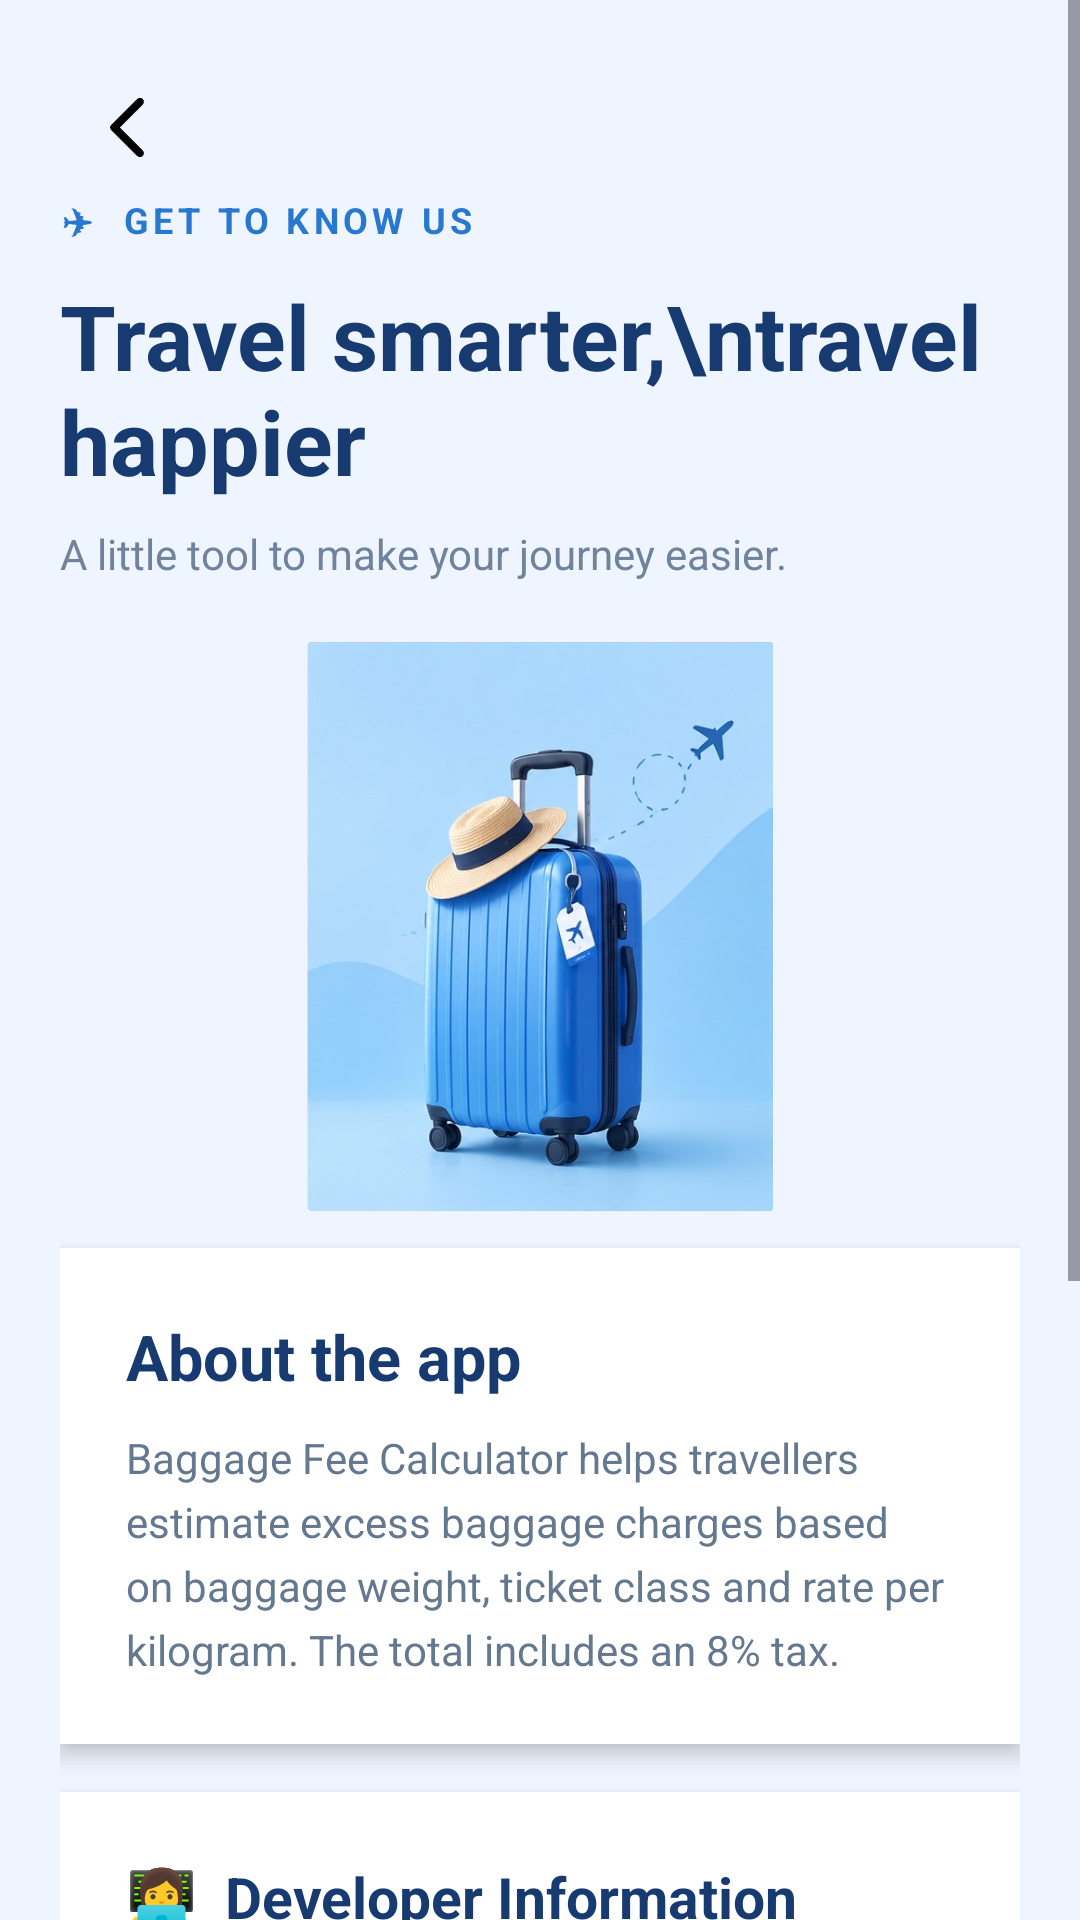

Locate icon controls on the screen. Image size 1080px×1920px, boxes as box=[x1, y1, x2, y2].
Back: box=[110, 98, 144, 157]
